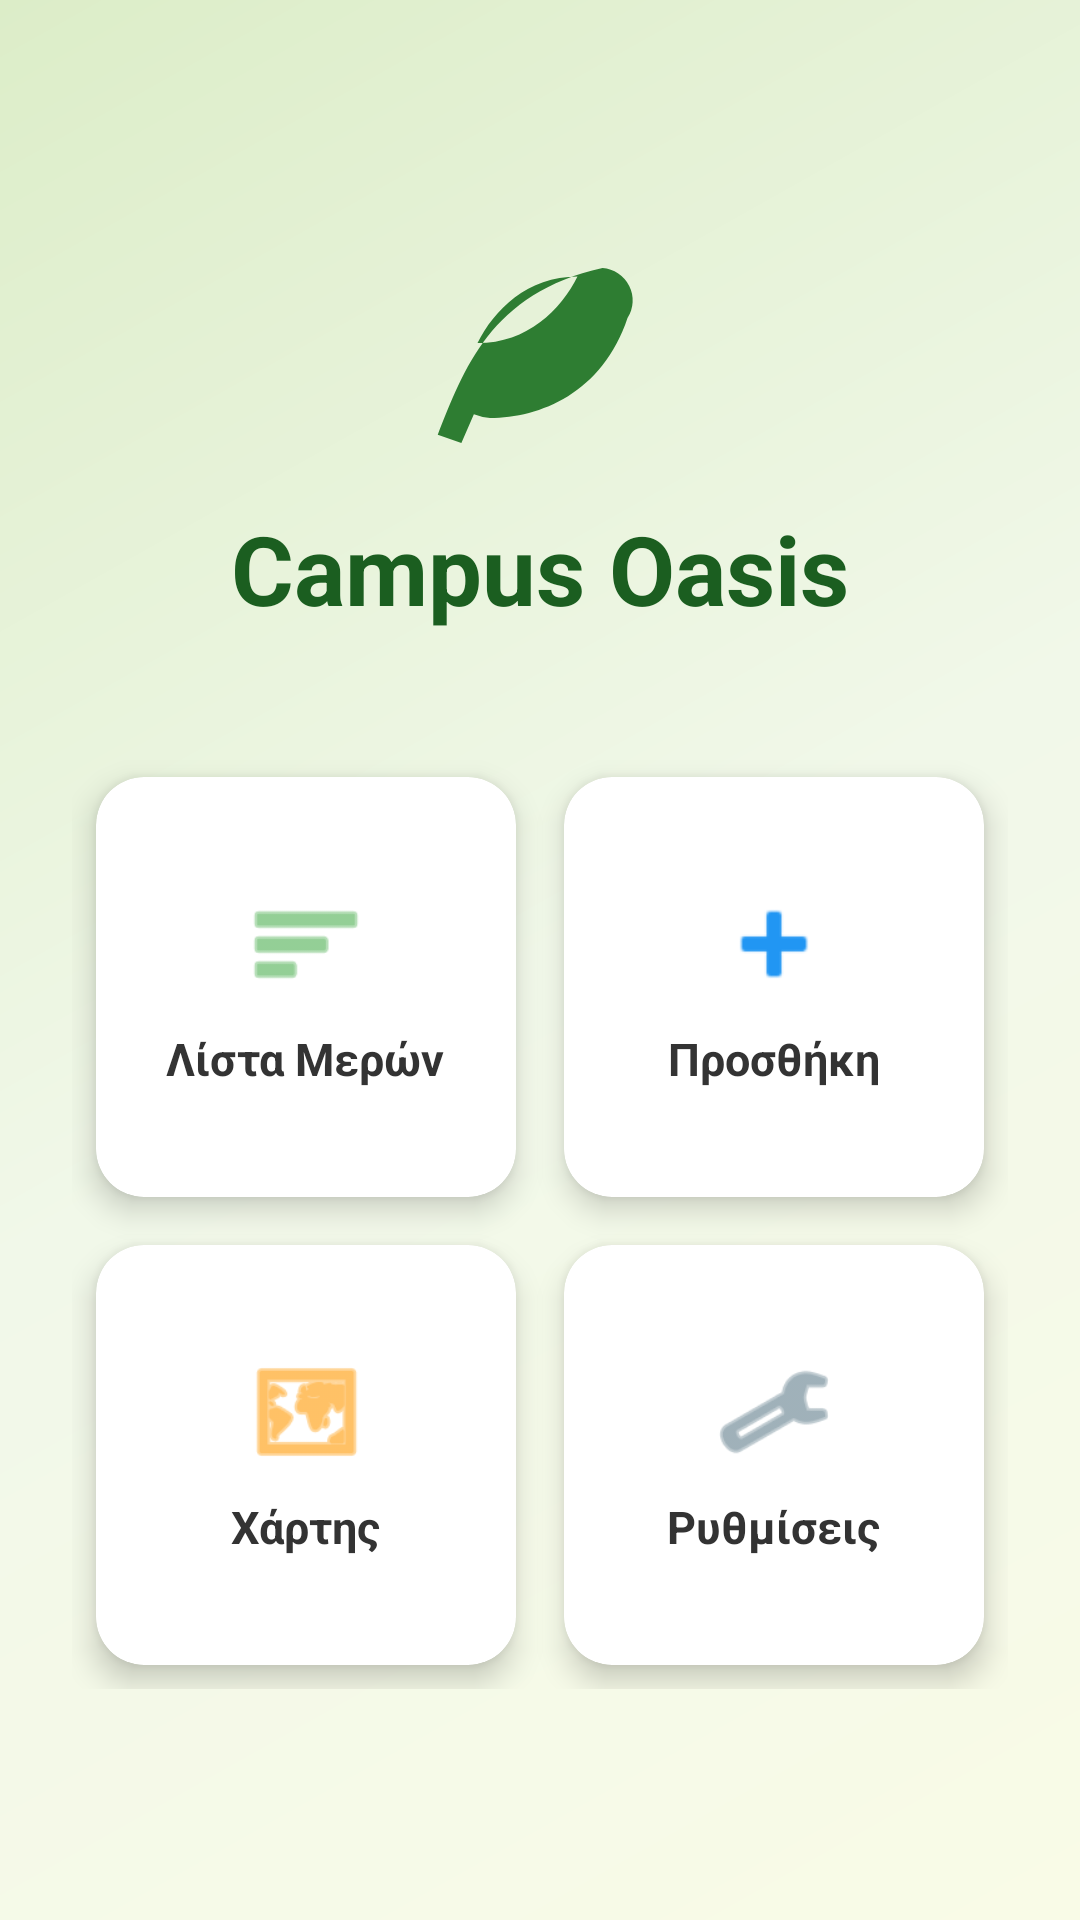

Icon click points for this 1080w x 1920h phone screenshot, format [x,y]:
add: [774,944]
manage: [774,1412]
mapmode: [306,1412]
sort by size: [306,944]
